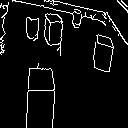cube: (20, 63, 70, 128), (88, 28, 121, 77), (41, 10, 70, 49), (20, 16, 42, 41), (71, 8, 85, 30)
